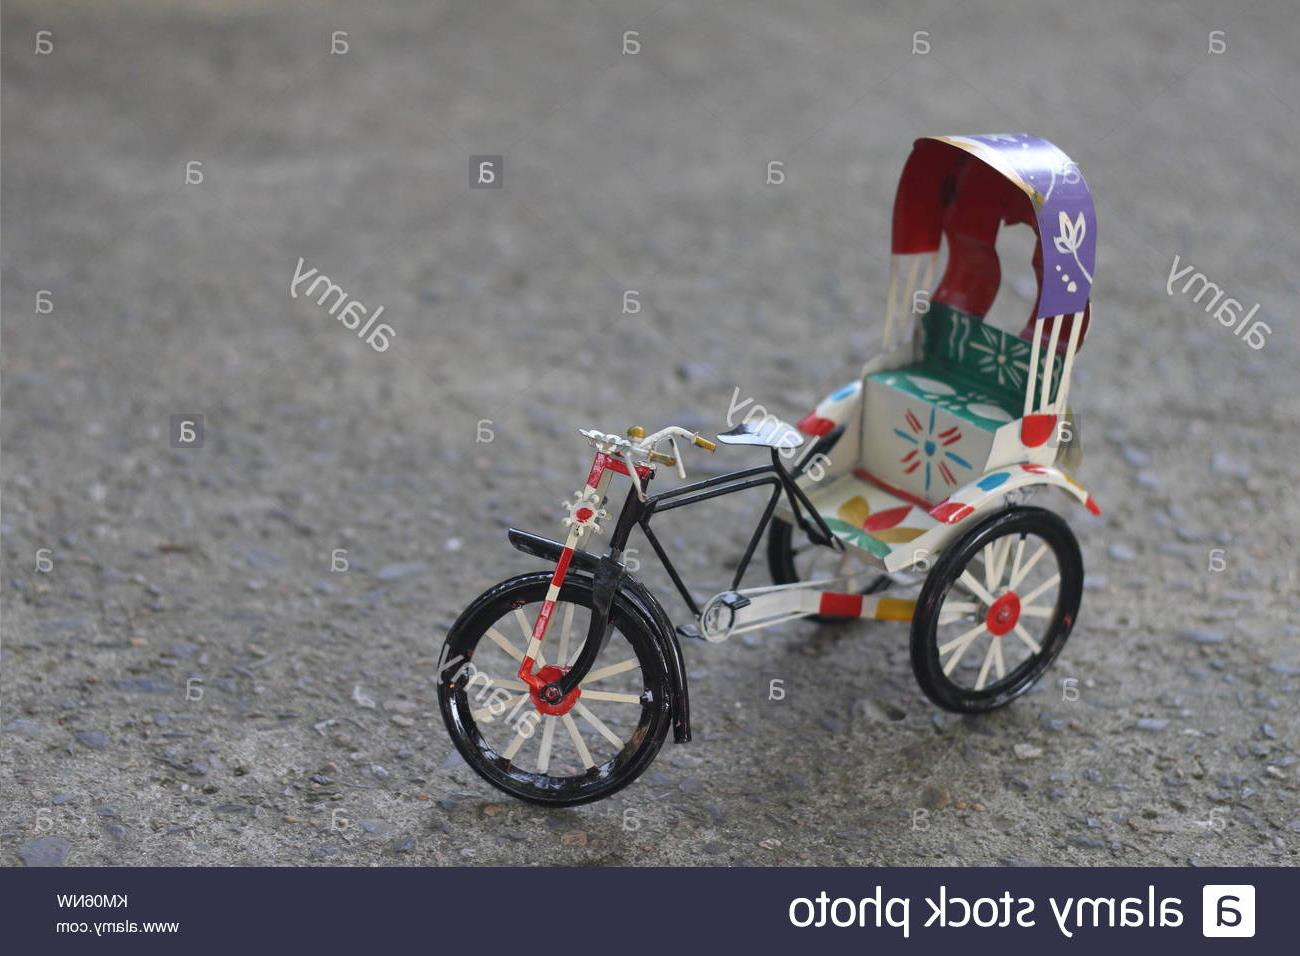Rickshaw: (420, 88, 1110, 802)
